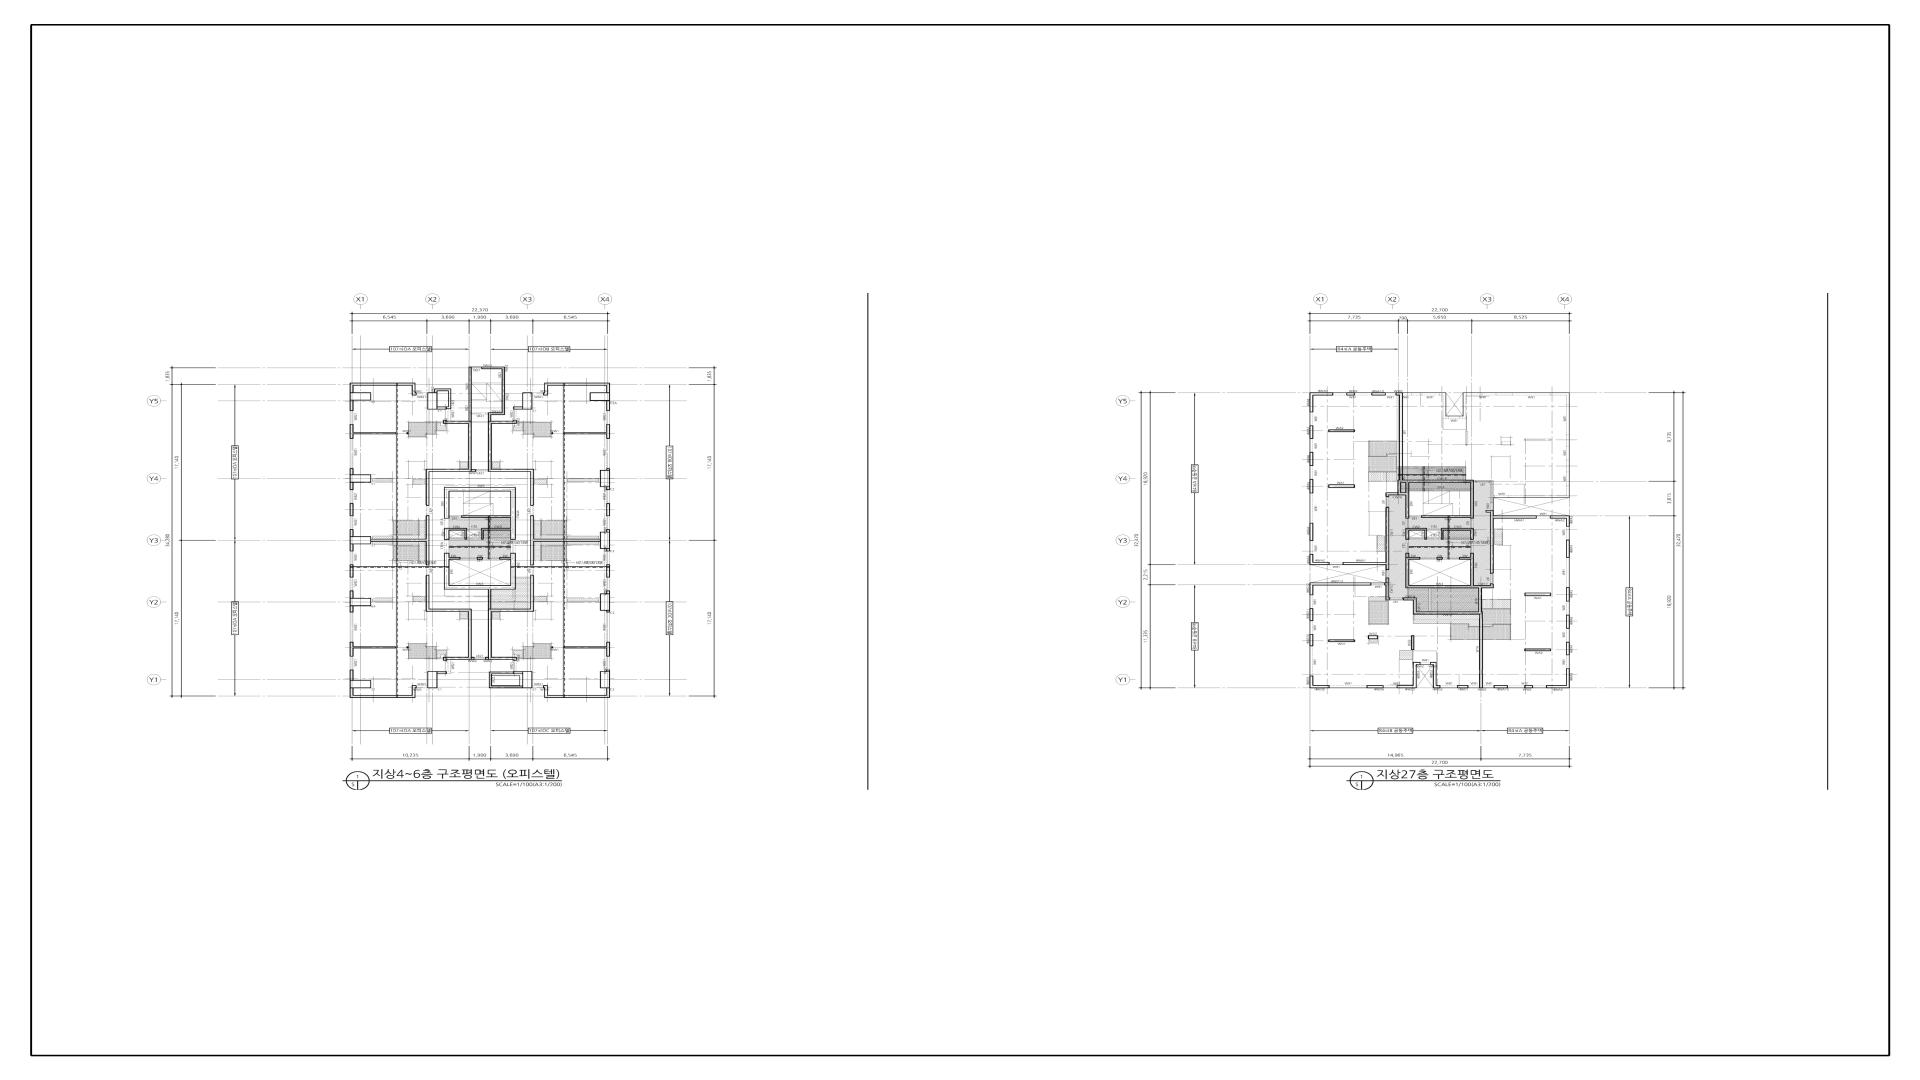wall: (488, 609, 534, 657), (426, 575, 472, 612), (426, 469, 468, 506), (488, 419, 517, 472), (443, 612, 473, 661), (1403, 597, 1484, 615), (543, 382, 611, 396), (543, 686, 611, 698), (1309, 583, 1371, 595), (1395, 393, 1403, 480), (349, 642, 396, 657), (564, 425, 611, 439), (564, 642, 611, 657), (1396, 662, 1420, 688), (489, 671, 524, 688), (418, 669, 447, 688), (513, 669, 542, 688), (444, 553, 459, 589), (501, 553, 516, 589), (375, 686, 417, 698), (1486, 510, 1494, 574), (1309, 393, 1333, 413), (1547, 669, 1569, 688), (1441, 527, 1474, 539), (468, 423, 476, 472), (444, 487, 516, 492), (481, 527, 510, 539), (513, 393, 533, 410), (1410, 584, 1494, 588), (434, 389, 451, 406), (1480, 615, 1484, 688), (444, 527, 467, 539), (349, 382, 415, 386), (1309, 675, 1329, 688), (510, 492, 516, 539), (1406, 527, 1427, 539), (1386, 506, 1390, 570), (1431, 662, 1440, 688), (600, 468, 611, 491), (1309, 554, 1329, 566), (349, 688, 375, 698), (1549, 516, 1571, 526), (426, 516, 430, 566), (530, 516, 534, 566), (600, 670, 611, 688), (1402, 480, 1474, 483), (468, 367, 472, 413), (600, 531, 611, 549), (427, 393, 438, 410), (349, 393, 372, 401), (349, 680, 372, 688), (534, 539, 600, 542), (458, 585, 501, 589), (1342, 562, 1386, 566), (589, 393, 611, 401), (349, 537, 371, 545), (371, 539, 426, 542), (1406, 553, 1410, 588), (1470, 483, 1474, 518), (444, 492, 450, 518), (530, 472, 534, 506), (530, 575, 534, 609), (353, 475, 371, 483), (353, 599, 371, 607), (1470, 553, 1474, 585), (462, 516, 510, 518), (1422, 516, 1470, 518), (485, 657, 517, 661), (1386, 492, 1410, 497), (1489, 480, 1495, 498), (502, 371, 505, 415), (1385, 578, 1390, 600), (443, 419, 472, 423), (600, 593, 607, 611), (492, 469, 534, 472), (1494, 516, 1536, 518), (1524, 592, 1551, 596), (1328, 484, 1354, 488), (481, 367, 505, 371), (1478, 588, 1482, 612), (349, 468, 353, 491), (1406, 496, 1410, 518), (349, 591, 353, 612), (488, 589, 492, 609), (1328, 430, 1356, 433), (1524, 649, 1551, 651), (1328, 640, 1354, 642), (1309, 524, 1313, 541), (349, 425, 353, 439), (1411, 636, 1415, 650), (1309, 479, 1313, 493), (353, 433, 396, 434), (607, 591, 609, 612), (438, 406, 451, 410), (349, 564, 353, 578), (607, 564, 611, 578), (1309, 426, 1313, 439), (1309, 452, 1313, 465), (1309, 608, 1313, 621), (411, 386, 417, 396), (1567, 539, 1569, 558), (349, 504, 353, 516), (607, 504, 611, 516), (1309, 634, 1313, 646), (1398, 480, 1402, 492), (1366, 686, 1383, 688), (349, 401, 353, 411), (349, 670, 353, 680), (607, 401, 611, 411), (1367, 636, 1378, 640), (488, 413, 502, 415), (1494, 686, 1509, 688), (1567, 615, 1569, 629), (1567, 587, 1569, 601), (1371, 393, 1386, 396), (1406, 483, 1410, 492), (1567, 642, 1569, 655), (349, 385, 353, 393), (349, 529, 353, 537), (468, 413, 472, 421), (607, 385, 611, 393), (1458, 556, 1470, 559), (1457, 686, 1469, 688), (500, 556, 510, 559), (450, 556, 460, 559), (1410, 556, 1420, 559), (349, 545, 353, 551), (1524, 686, 1534, 688), (488, 415, 492, 421), (1346, 393, 1354, 396), (1436, 556, 1443, 559), (1490, 498, 1494, 502), (477, 556, 483, 559), (607, 529, 611, 531), (607, 549, 611, 551)
